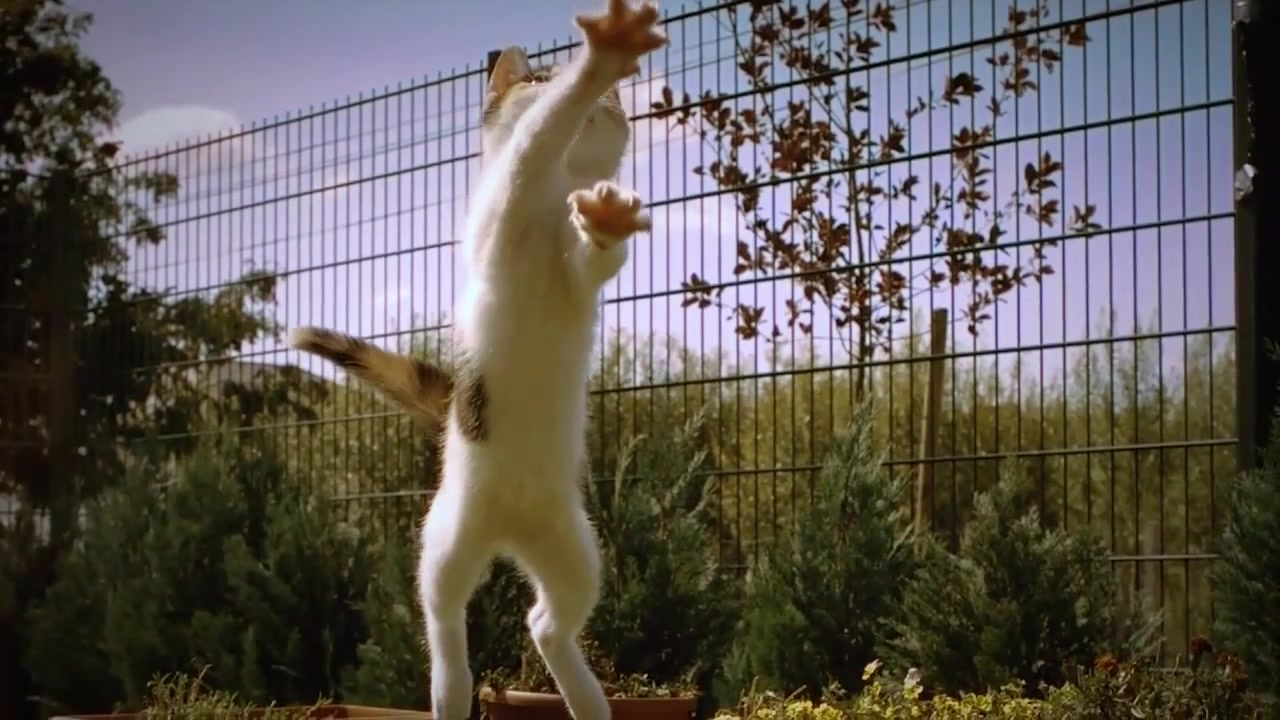cat: (287, 2, 677, 720)
